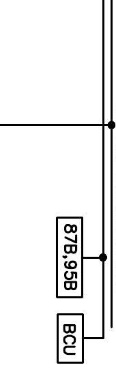BCU: (56, 313, 84, 364)
